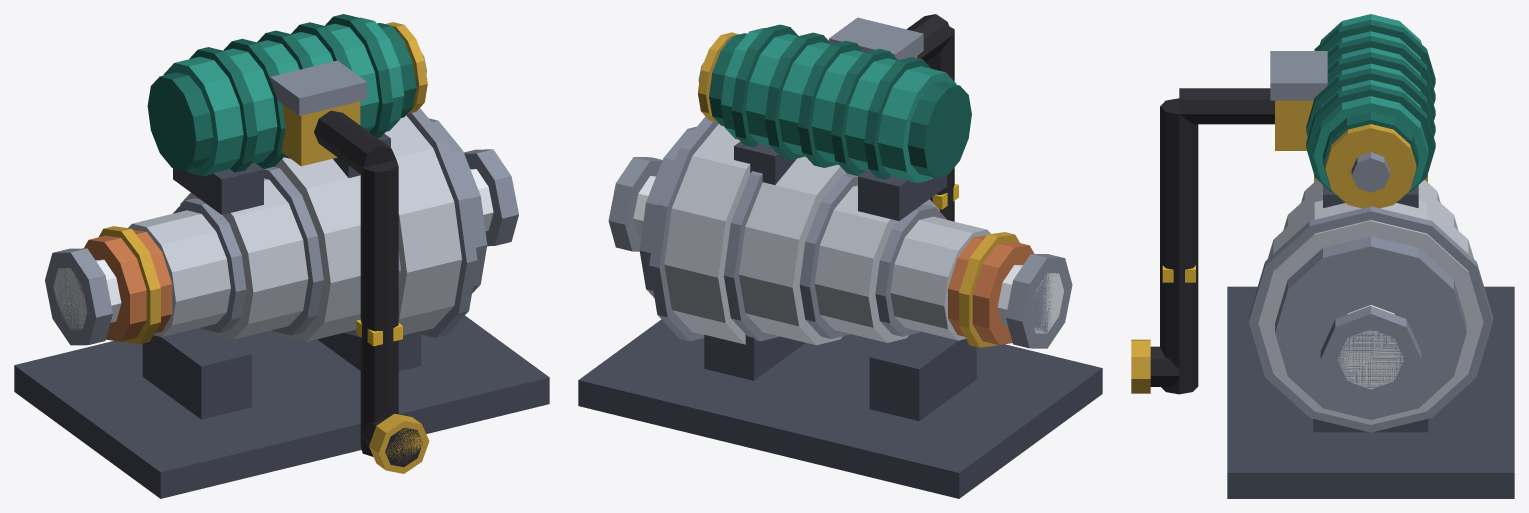
The model's file is steam-turbine.glb.
3 renders of one model, left to right at view 1: azimuth 30°, elevation 25°; view 2: azimuth 150°, elevation 25°; view 3: azimuth 270°, elevation 25°, orthographic. The views are drawn at different scales.
Visible parts, largest first — view 1: steam-turbine, spin-x; view 2: steam-turbine, spin-x; view 3: steam-turbine, spin-x.
Part boxes in pixels (left/top/right/bottom): steam-turbine: left=14, top=14, right=549, bottom=498; spin-x: left=385, top=22, right=427, bottom=113; steam-turbine: left=578, top=14, right=1102, bottom=498; spin-x: left=698, top=32, right=738, bottom=122; steam-turbine: left=1131, top=14, right=1514, bottom=498; spin-x: left=1325, top=124, right=1416, bottom=208.
Size of the model in its own units: 1 by 0.815 by 0.8.
Materials: 2 (2 with a texture image).
